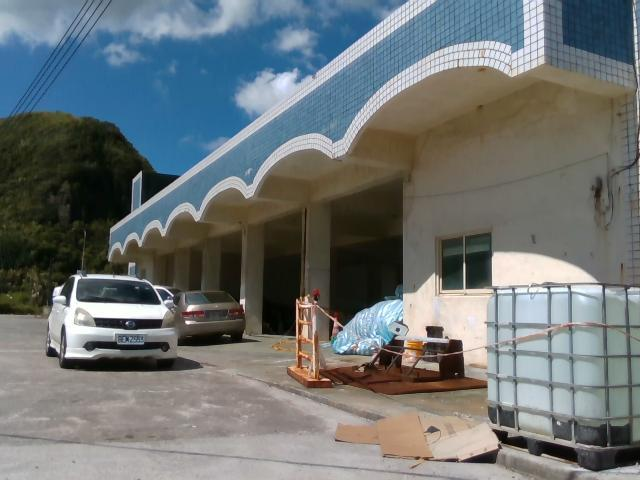pollute: (483, 282, 639, 475), (330, 406, 501, 469), (318, 334, 486, 396), (331, 281, 407, 356)
